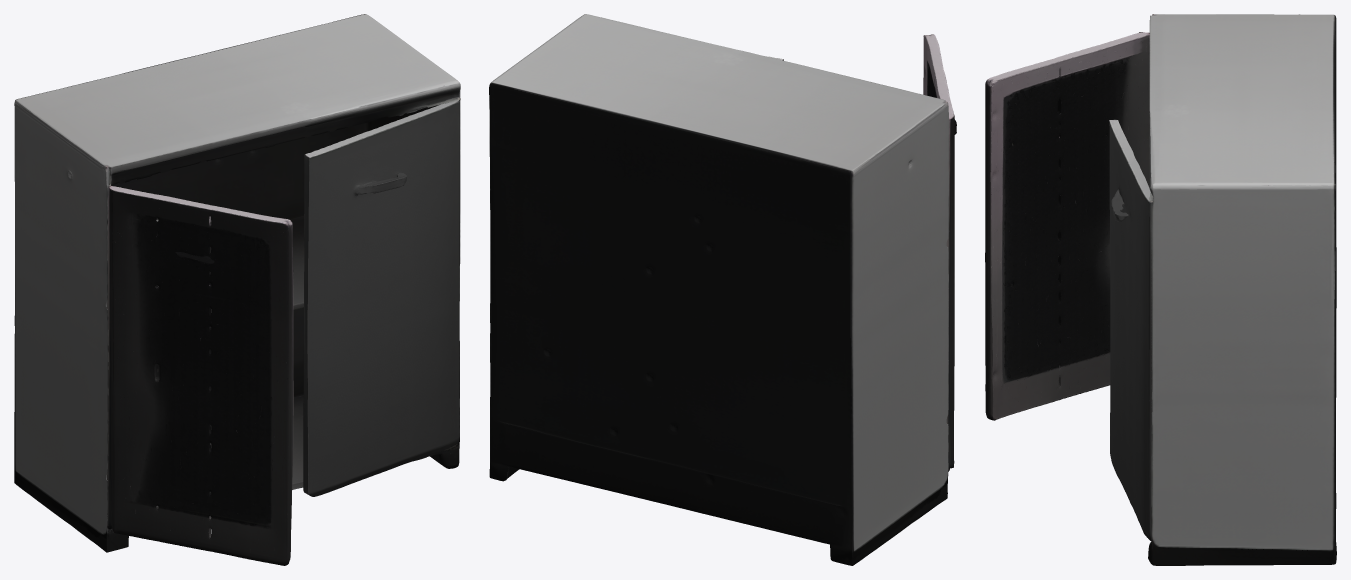
Rendered from prediction.glb.
3 renders of one model, left to right at view 1: azimuth 30°, elevation 25°; view 2: azimuth 150°, elevation 25°; view 3: azimuth 270°, elevation 25°, orthographic. The views are drawn at different scales.
Parts seen in each view (by area): view 1: 1_geometry_0, 0_geometry_0, 2_geometry_0; view 2: 1_geometry_0, 0_geometry_0; view 3: 1_geometry_0, 0_geometry_0, 2_geometry_0.
Boxes of the visible parts, left/top/right/bottom form: 1_geometry_0: left=14, top=14, right=460, bottom=552; 0_geometry_0: left=107, top=186, right=293, bottom=565; 2_geometry_0: left=303, top=100, right=459, bottom=496; 1_geometry_0: left=489, top=14, right=949, bottom=565; 0_geometry_0: left=923, top=34, right=956, bottom=471; 1_geometry_0: left=1148, top=14, right=1336, bottom=565; 0_geometry_0: left=985, top=32, right=1149, bottom=420; 2_geometry_0: left=1109, top=119, right=1152, bottom=540.
Bounding box in the file's own units: 0.95 × 0.9878 × 0.8228.
Materials: 3 (3 with a texture image).
